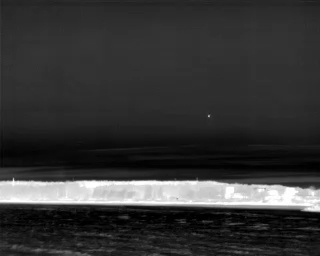HELICOPTER: (205, 112, 213, 121)
